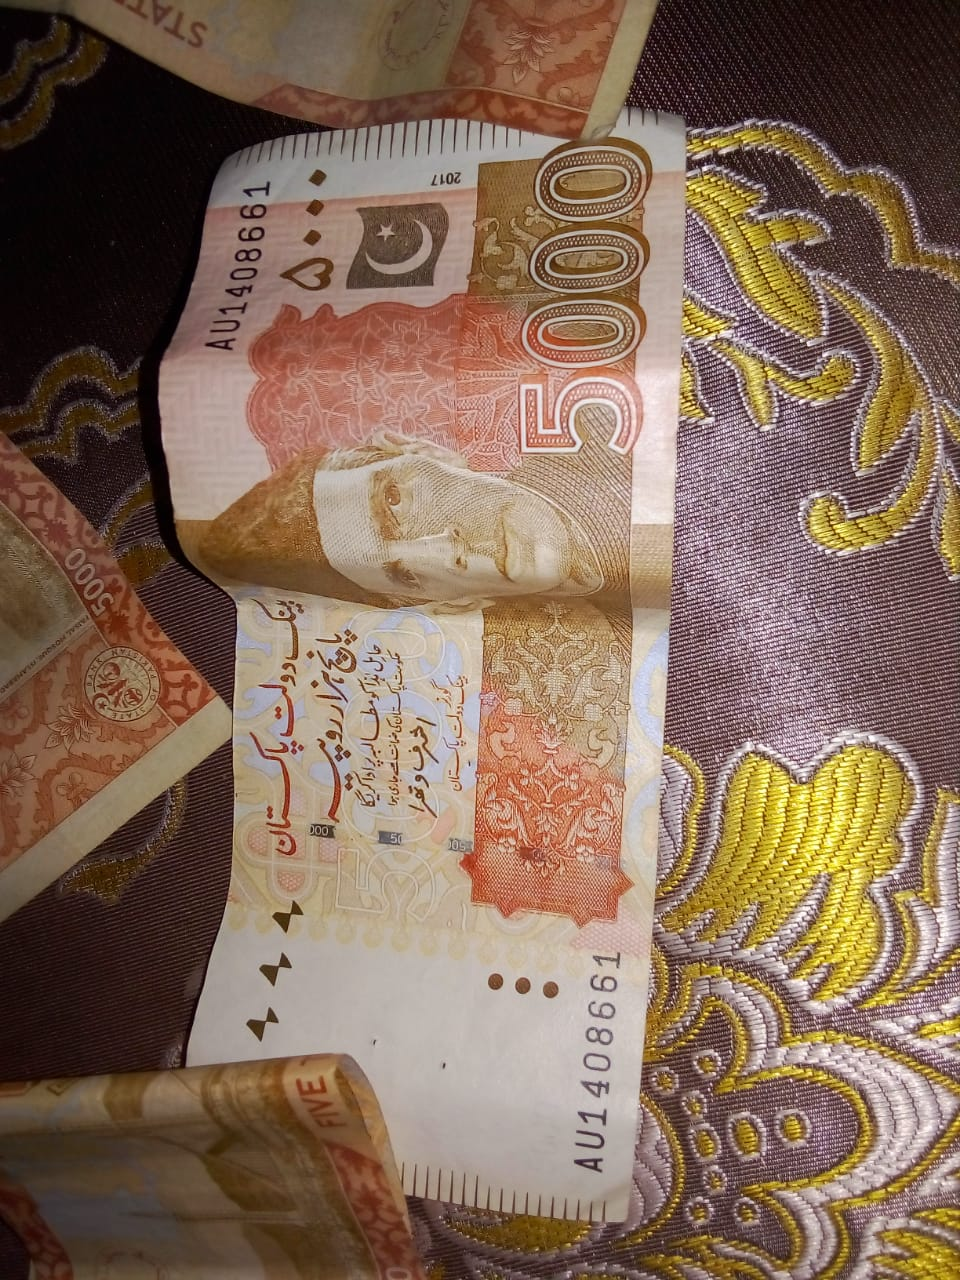5000 rupee: (91, 125, 782, 1198)
